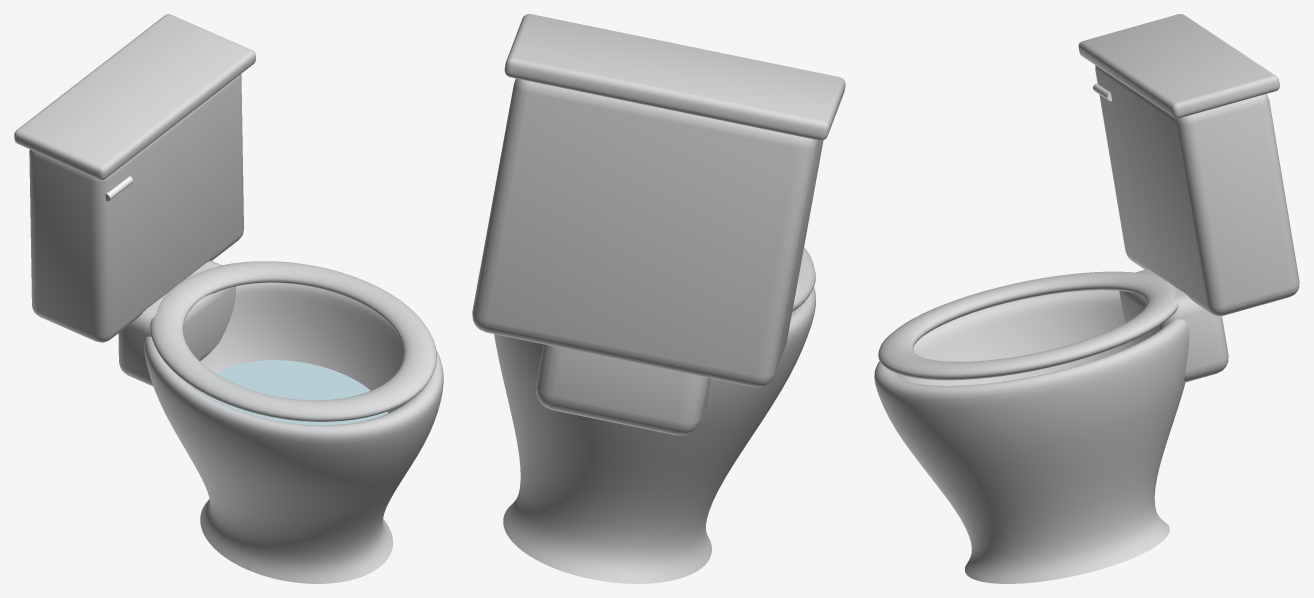
Rendered from toilet_tilted.glb.
3 renders of one model, left to right at view 1: azimuth 30°, elevation 25°; view 2: azimuth 150°, elevation 25°; view 3: azimuth 270°, elevation 25°, orthographic. The views are drawn at different scales.
Visible parts, largest first — view 1: Tilted_Bowl, Tilted_Tank, Tilted_TankLid, Tilted_Seat, Tilted_Water, Tilted_Neck; view 2: Tilted_Tank, Tilted_Bowl, Tilted_TankLid, Tilted_Neck, Tilted_Seat; view 3: Tilted_Bowl, Tilted_Tank, Tilted_TankLid, Tilted_Seat, Tilted_Neck.
Part boxes in pixels (box(x1,y1,x2,y2)): Tilted_Bowl: box(144, 282, 443, 583); Tilted_Tank: box(29, 74, 243, 342); Tilted_TankLid: box(14, 14, 255, 180); Tilted_Seat: box(150, 261, 436, 421); Tilted_Water: box(201, 360, 387, 425); Tilted_Neck: box(118, 260, 235, 386); Tilted_Tank: box(472, 78, 823, 387); Tilted_Bowl: box(494, 287, 815, 583); Tilted_TankLid: box(504, 14, 845, 140); Tilted_Neck: box(536, 344, 710, 435); Tilted_Seat: box(792, 247, 815, 311); Tilted_Bowl: box(874, 290, 1189, 583); Tilted_Tank: box(1095, 65, 1299, 315); Tilted_TankLid: box(1078, 14, 1279, 118); Tilted_Seat: box(878, 271, 1178, 380); Tilted_Neck: box(1119, 269, 1228, 382).
Bounding box in the file's own units: 0.6824 × 0.9429 × 0.7635.
